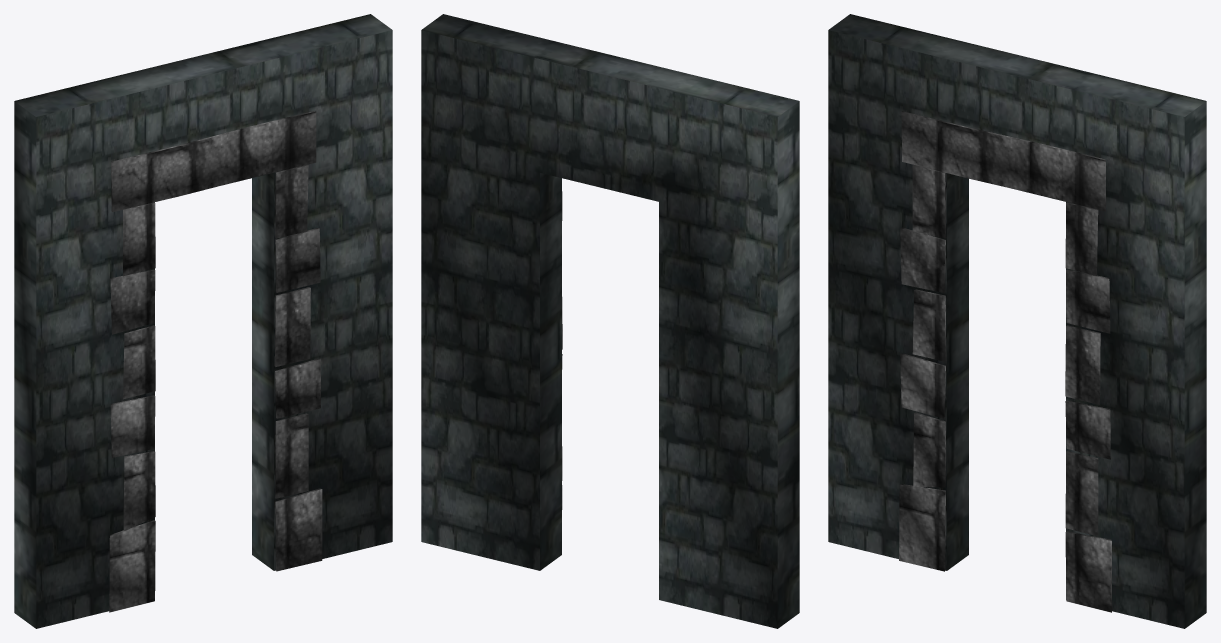
The model's file is dark stone door2.glb.
3 views of the same model, side by side, from view 1: azimuth 30°, elevation 25°; view 2: azimuth 150°, elevation 25°; view 3: azimuth 330°, elevation 25° (orthographic).
Visible parts, largest first — view 1: Circular Doorway.006; view 2: Circular Doorway.006; view 3: Circular Doorway.006.
Part boxes in pixels (x1,y1,x2,y2): Circular Doorway.006: [14, 14, 392, 628]; Circular Doorway.006: [421, 14, 799, 628]; Circular Doorway.006: [828, 14, 1206, 628].
Bounding box in the file's own units: 2 × 2.75 × 0.225.
Materials: 2 (2 with a texture image).
